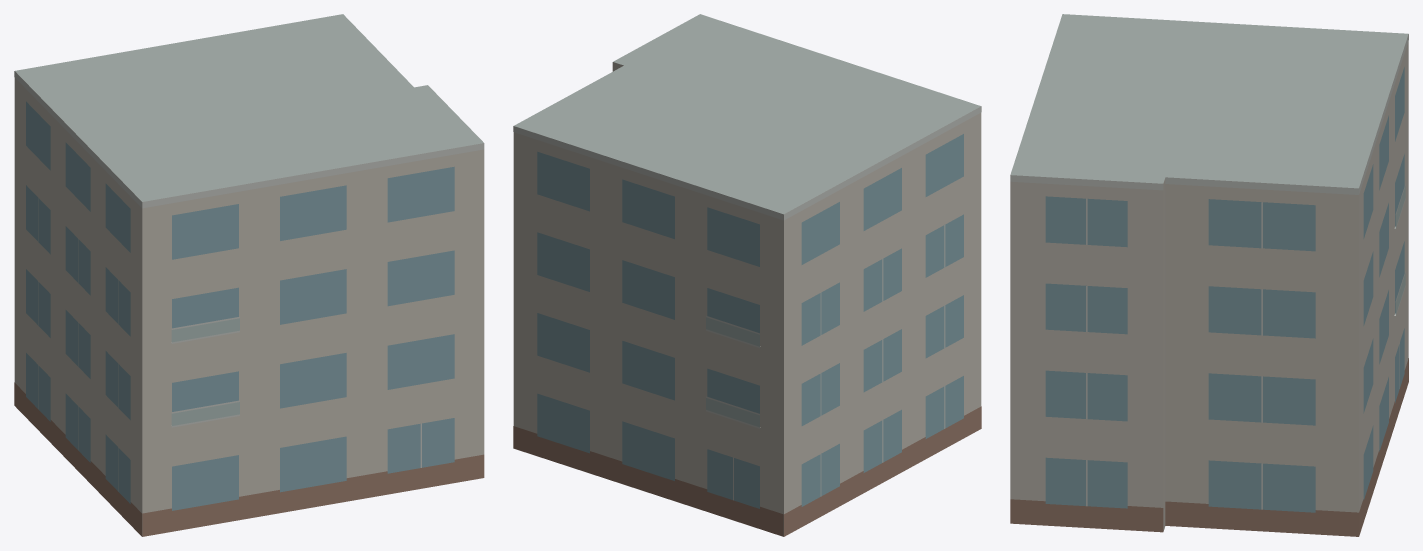
Rendered from survey-upis-32809172.glb.
The picture shows the model from 3 angles, left to right: view 1: azimuth 30°, elevation 25°; view 2: azimuth 150°, elevation 25°; view 3: azimuth 270°, elevation 25°; orthographic projection. The views are drawn at different scales.
Parts seen in each view (by area): view 1: survey-upis-32809172.tmp; view 2: survey-upis-32809172.tmp; view 3: survey-upis-32809172.tmp.
Boxes of the visible parts, x1,y1,x2,y2 form: survey-upis-32809172.tmp: (14,14,484,536); survey-upis-32809172.tmp: (513,14,981,536); survey-upis-32809172.tmp: (1010,14,1408,536).
Size of the model in its own units: 13.75 by 12.8 by 13.27.
